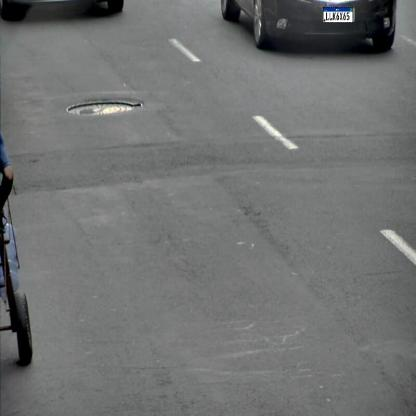PlacaM: (323, 7, 353, 23)
